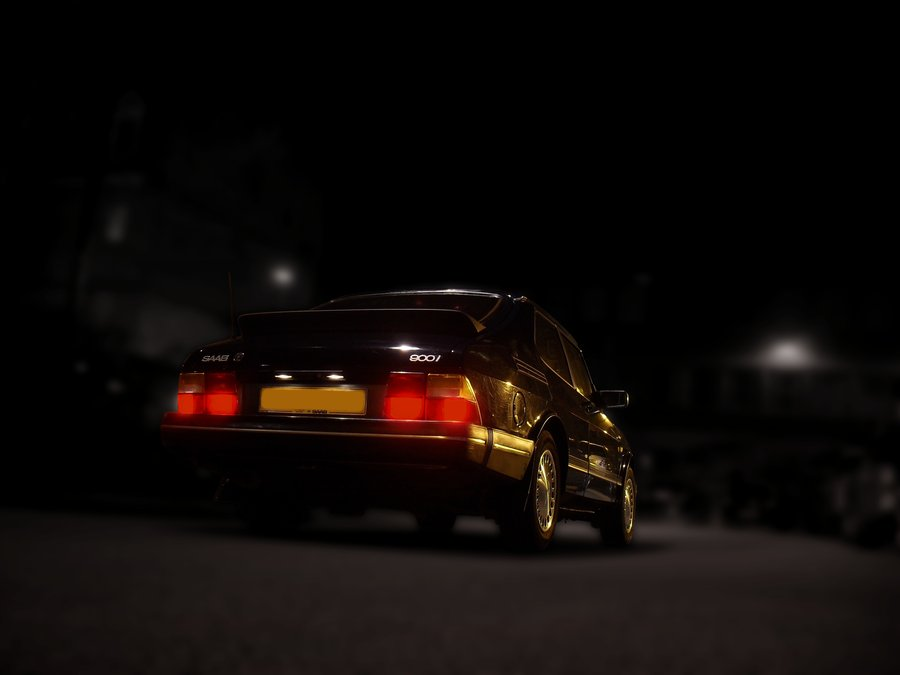car: (146, 276, 655, 559)
